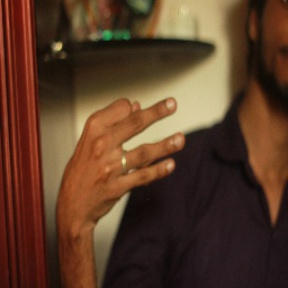K: (60, 95, 189, 220)
